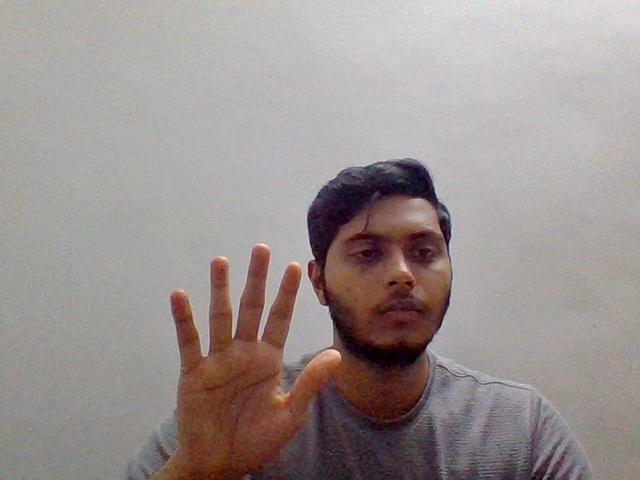Hello: (159, 239, 348, 480)
